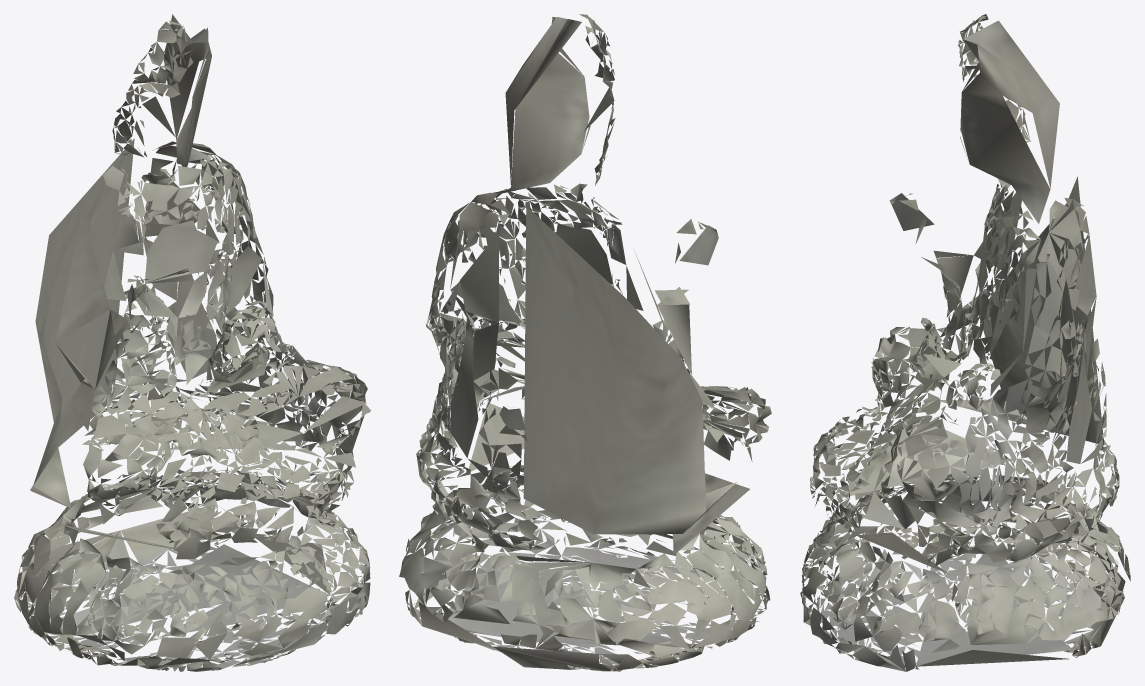
Rendered from far.glb.
3 renders of one model, left to right at view 1: azimuth 30°, elevation 25°; view 2: azimuth 150°, elevation 25°; view 3: azimuth 270°, elevation 25°, orthographic. The views are drawn at different scales.
Parts seen in each view (by area): view 1: statue-023; view 2: statue-023; view 3: statue-023.
Part boxes in pixels (x1=…): statue-023: x1=14, y1=14, x2=370, y2=671; statue-023: x1=399, y1=14, x2=771, y2=671; statue-023: x1=800, y1=14, x2=1130, y2=671.
Size of the model in its own units: 0.5432 by 0.9942 by 0.4986.
Materials: 1 (1 with a texture image).
